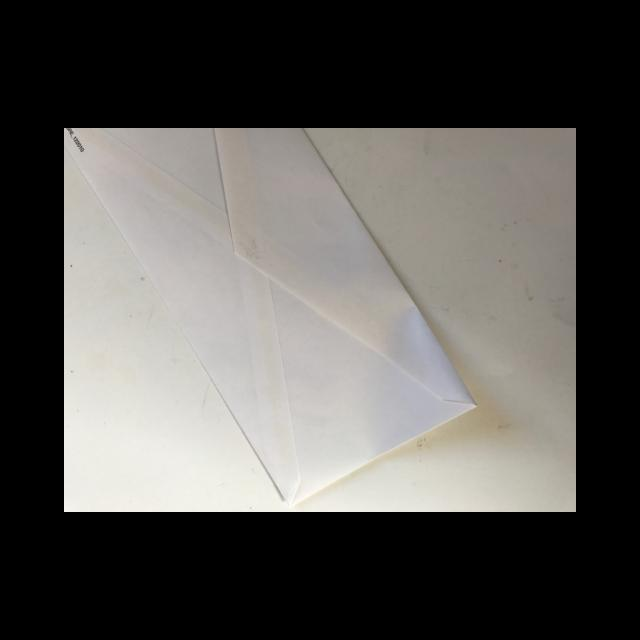paper: (64, 128, 480, 503)
